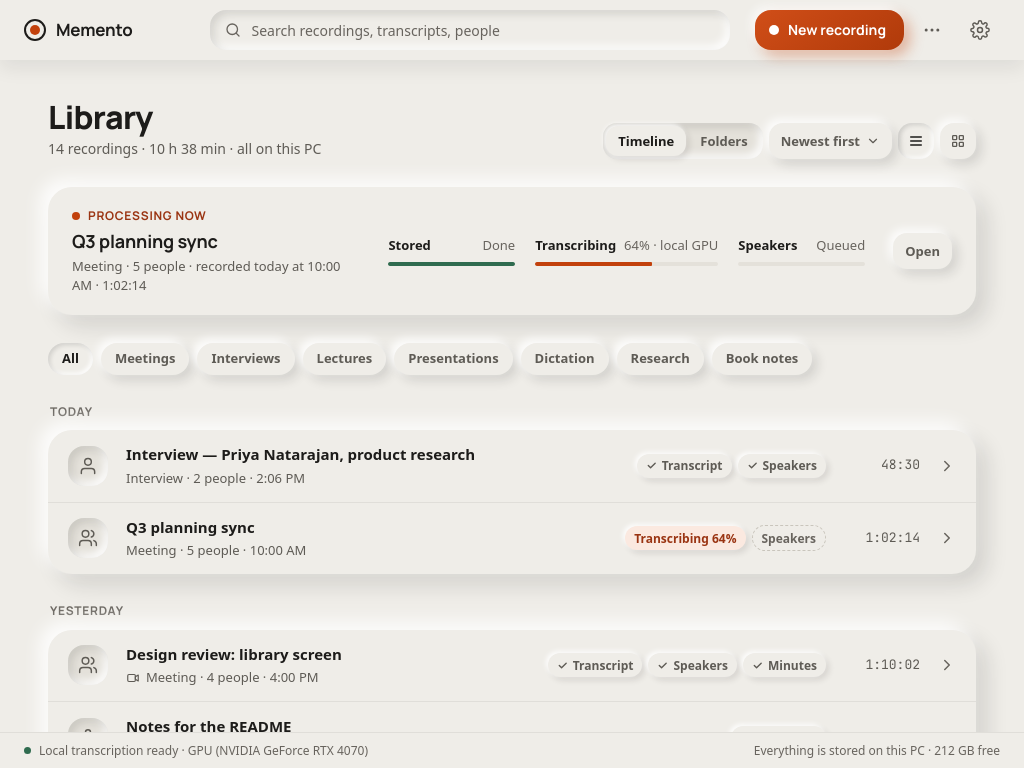
Scenario: Library, populated (against the browser-preview host) › shows a transcript match snippet under the meta line with the matched words bold
Type "processing card" into the search field with id "lib-search" at (470, 30), box [210,10,730,50]
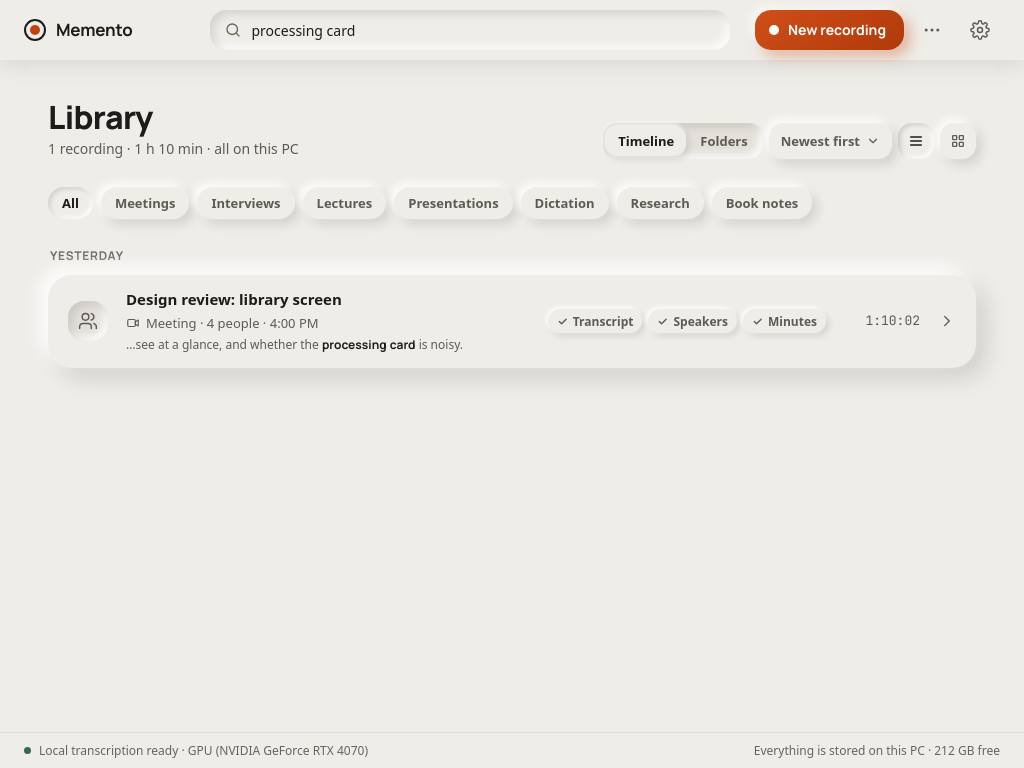
Now the element with class "row-snippet" shows "processing card", box [126,336,463,354]
Replace the text in the search field with id "lib-search" with "town" at (470, 30), box [210,10,730,50]
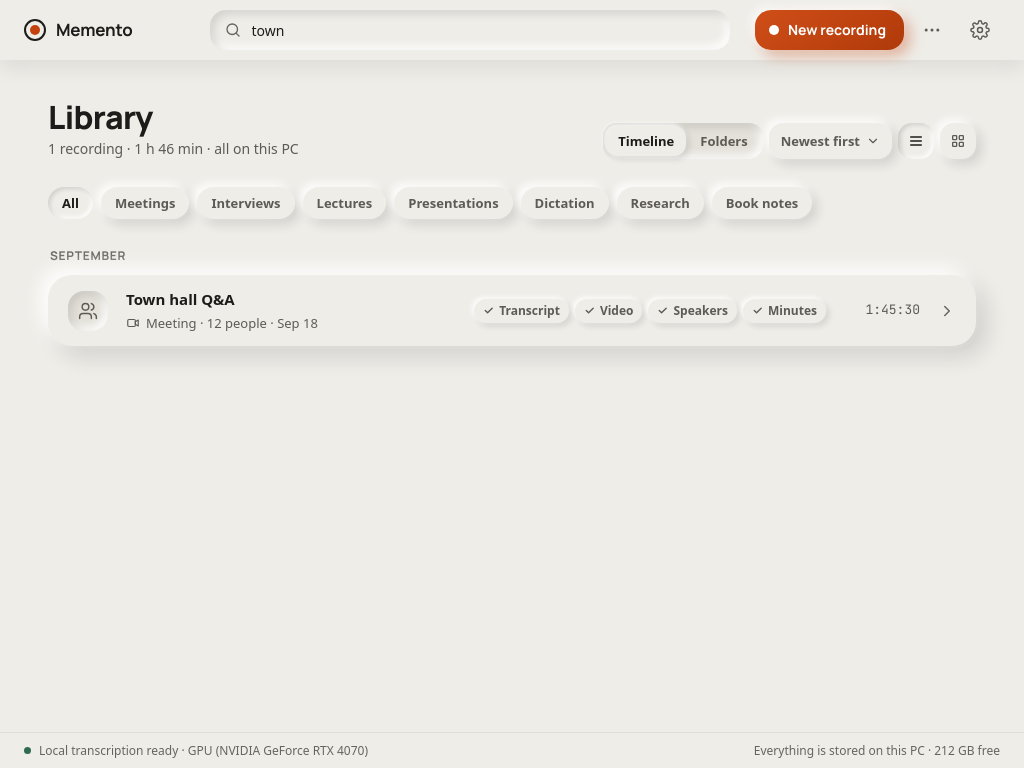
Now the element with class "row-snippet" is gone
